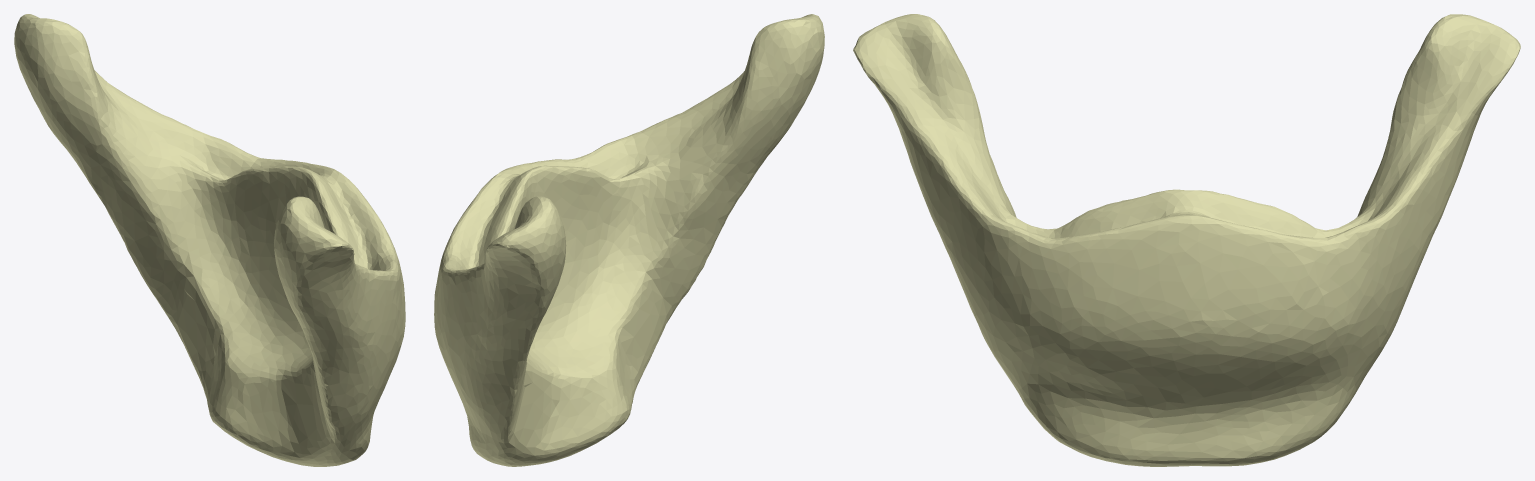
3 renders of one model, left to right at view 1: azimuth 30°, elevation 25°; view 2: azimuth 150°, elevation 25°; view 3: azimuth 270°, elevation 25°, orthographic. The views are drawn at different scales.
Visible parts, largest first — view 1: 928.obj; view 2: 928.obj; view 3: 928.obj.
Boxes of the visible parts, x1,y1,x2,y2 form: 928.obj: (14,14,405,466); 928.obj: (434,14,824,466); 928.obj: (853,14,1520,466).
Bounding box in the file's own units: 2277 × 3653 × 5785.
